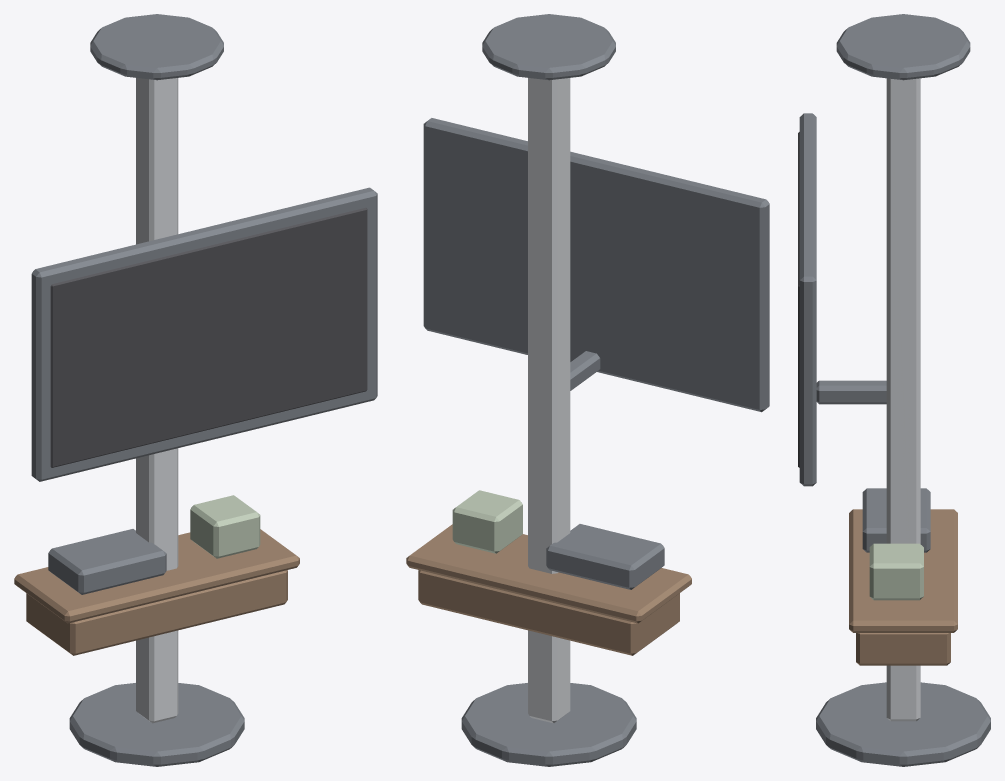
The model's file is SwivelTVMount.glb.
3 views of the same model, side by side, from view 1: azimuth 30°, elevation 25°; view 2: azimuth 150°, elevation 25°; view 3: azimuth 270°, elevation 25° (orthographic).
Visible parts, largest first — view 1: SwivelTVMount_Screen, SwivelTVMount_Post; view 2: SwivelTVMount_Post, SwivelTVMount_Screen; view 3: SwivelTVMount_Post, SwivelTVMount_Screen.
Boxes of the visible parts, x1,y1,x2,y2 form: SwivelTVMount_Screen: (31, 187, 377, 481); SwivelTVMount_Post: (14, 14, 299, 766); SwivelTVMount_Post: (406, 14, 691, 766); SwivelTVMount_Screen: (423, 118, 769, 412); SwivelTVMount_Post: (816, 14, 990, 766); SwivelTVMount_Screen: (798, 113, 886, 486).
Size of the model in its own units: 1.16 by 2.24 by 0.5669.
